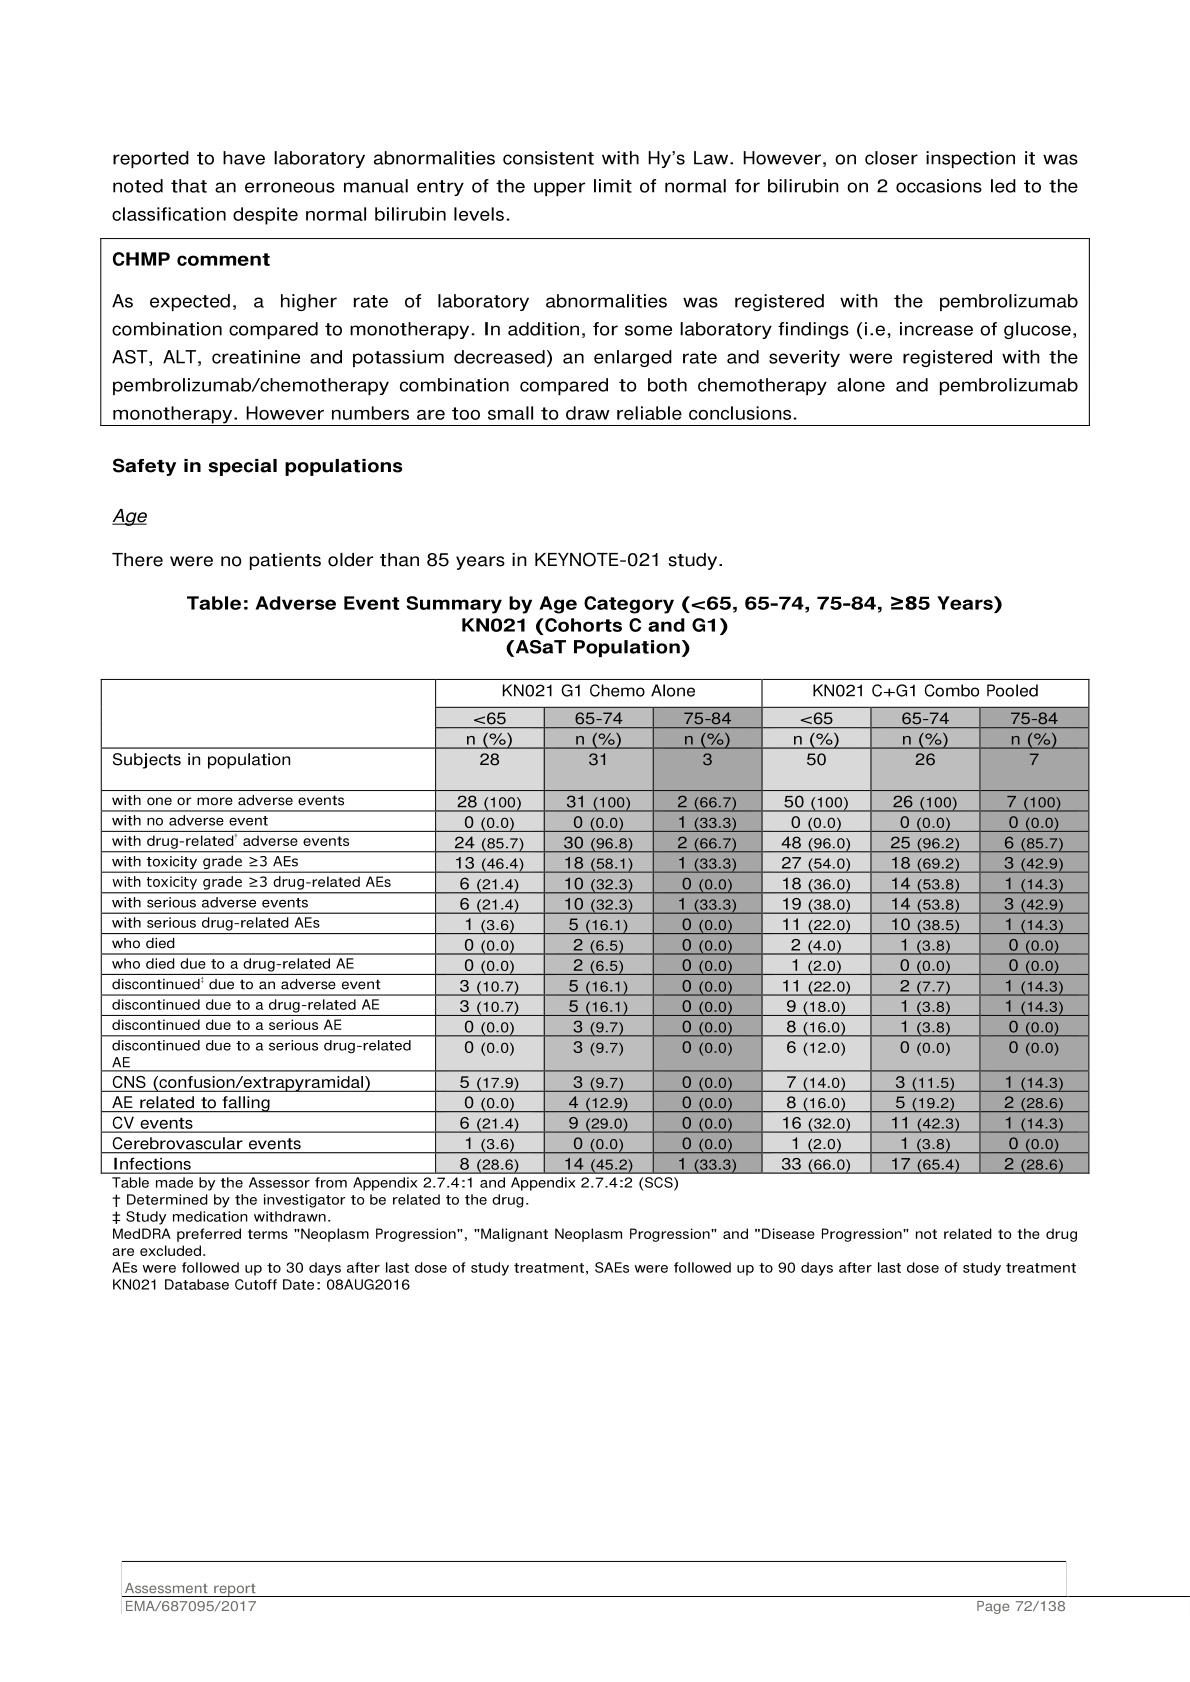merged_cells: (100, 677, 1091, 1176)
